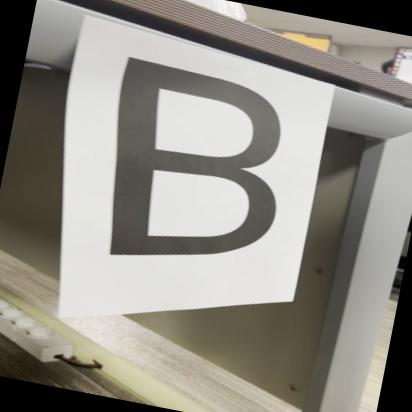seat: (82, 48, 309, 284)
